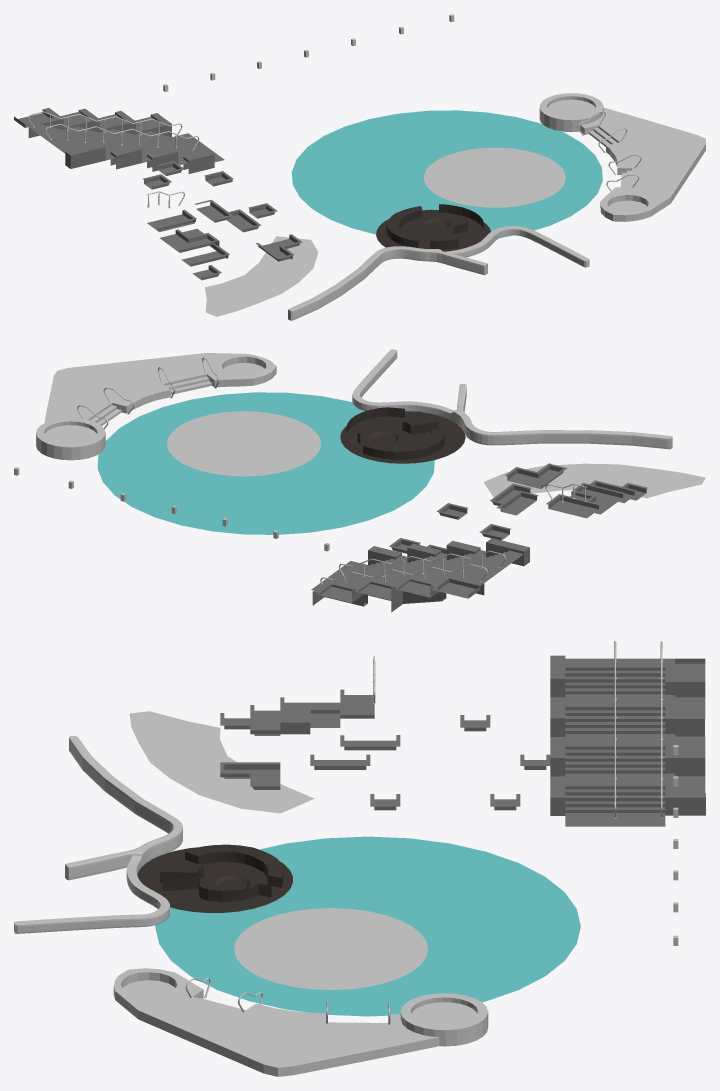
The model's file is Environment.obj.
The picture shows the model from 3 angles, top to bottom: view 1: azimuth 30°, elevation 25°; view 2: azimuth 150°, elevation 25°; view 3: azimuth 270°, elevation 25°; orthographic projection. The views are drawn at different scales.
Parts seen in each view (by area): view 1: Circle, Cube, Cube.002_Cube.004, Circle.001, Cube.003_Cube.008, Circle.003_Circle.002, Plane.001, Cylinder.001_Cylinder.002, Railing.002; view 2: Circle, Cube, Cube.002_Cube.004, Circle.001, Circle.003_Circle.002, Cube.003_Cube.008, Plane.001, Cylinder.001_Cylinder.002, Railing.002, Railing.001_Railing.024; view 3: Circle, Cube, Cube.002_Cube.004, Circle.001, Circle.003_Circle.002, Plane.001, Cube.003_Cube.008, Cylinder.001_Cylinder.002.
Part boxes in pixels (x1=…): Circle: x1=291, y1=110, x2=602, y2=237; Cube: x1=14, y1=108, x2=302, y2=280; Cube.002_Cube.004: x1=580, y1=107, x2=705, y2=221; Circle.001: x1=424, y1=147, x2=565, y2=207; Cube.003_Cube.008: x1=288, y1=226, x2=589, y2=320; Circle.003_Circle.002: x1=376, y1=204, x2=490, y2=251; Plane.001: x1=204, y1=236, x2=318, y2=316; Cylinder.001_Cylinder.002: x1=539, y1=93, x2=603, y2=131; Railing.002: x1=45, y1=124, x2=199, y2=150; Circle: x1=97, y1=392, x2=434, y2=534; Cube: x1=311, y1=463, x2=647, y2=612; Cube.002_Cube.004: x1=44, y1=353, x2=276, y2=425; Circle.001: x1=167, y1=411, x2=320, y2=476; Circle.003_Circle.002: x1=340, y1=407, x2=465, y2=463; Cube.003_Cube.008: x1=352, y1=349, x2=672, y2=449; Plane.001: x1=483, y1=463, x2=705, y2=498; Cylinder.001_Cylinder.002: x1=36, y1=418, x2=105, y2=460; Railing.002: x1=338, y1=550, x2=506, y2=579; Railing.001_Railing.024: x1=320, y1=564, x2=487, y2=584; Circle: x1=155, y1=836, x2=580, y2=1016; Cube: x1=220, y1=655, x2=705, y2=826; Cube.002_Cube.004: x1=113, y1=968, x2=439, y2=1076; Circle.001: x1=234, y1=908, x2=428, y2=989; Circle.003_Circle.002: x1=137, y1=844, x2=292, y2=912; Plane.001: x1=129, y1=711, x2=314, y2=813; Cube.003_Cube.008: x1=14, y1=736, x2=182, y2=933; Cylinder.001_Cylinder.002: x1=400, y1=993, x2=488, y2=1046.
Size of the model in its own units: 43.15 by 4.58 by 34.62.
